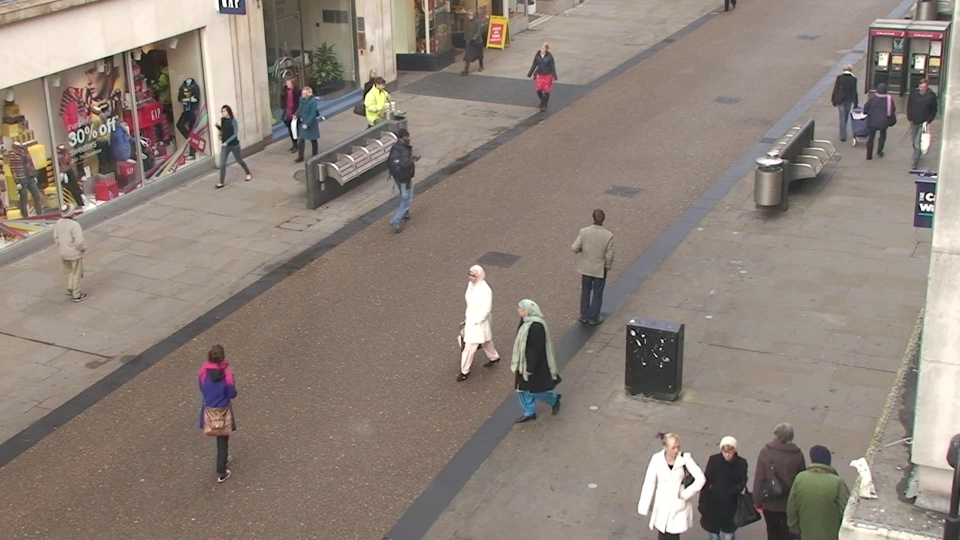pedestrian: (193, 334, 253, 484), (751, 410, 813, 540), (695, 423, 756, 540), (784, 431, 849, 540), (642, 421, 701, 540), (504, 291, 549, 434), (48, 198, 101, 312), (457, 257, 501, 391), (579, 204, 617, 324), (898, 77, 941, 167), (858, 82, 897, 172), (388, 125, 423, 223), (213, 101, 248, 191), (829, 60, 864, 143), (293, 82, 325, 166), (277, 73, 308, 156), (367, 74, 397, 157), (359, 65, 389, 146), (532, 40, 557, 114), (463, 6, 487, 71)
